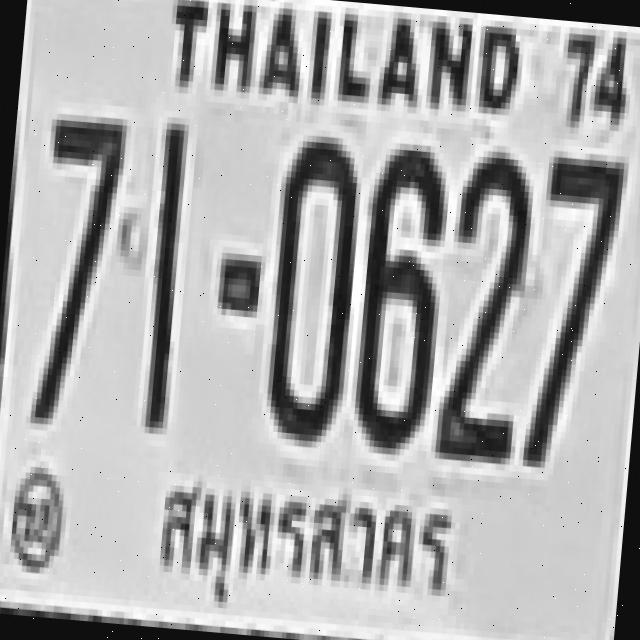0: (260, 126, 361, 436)
1: (138, 119, 189, 400)
2: (435, 145, 534, 430), (431, 185, 528, 458), (439, 146, 532, 406)
6: (347, 138, 448, 448)
7: (27, 109, 128, 413), (524, 150, 624, 453), (528, 150, 624, 410), (532, 150, 624, 366)
SamutSakhon: (136, 458, 470, 628)
